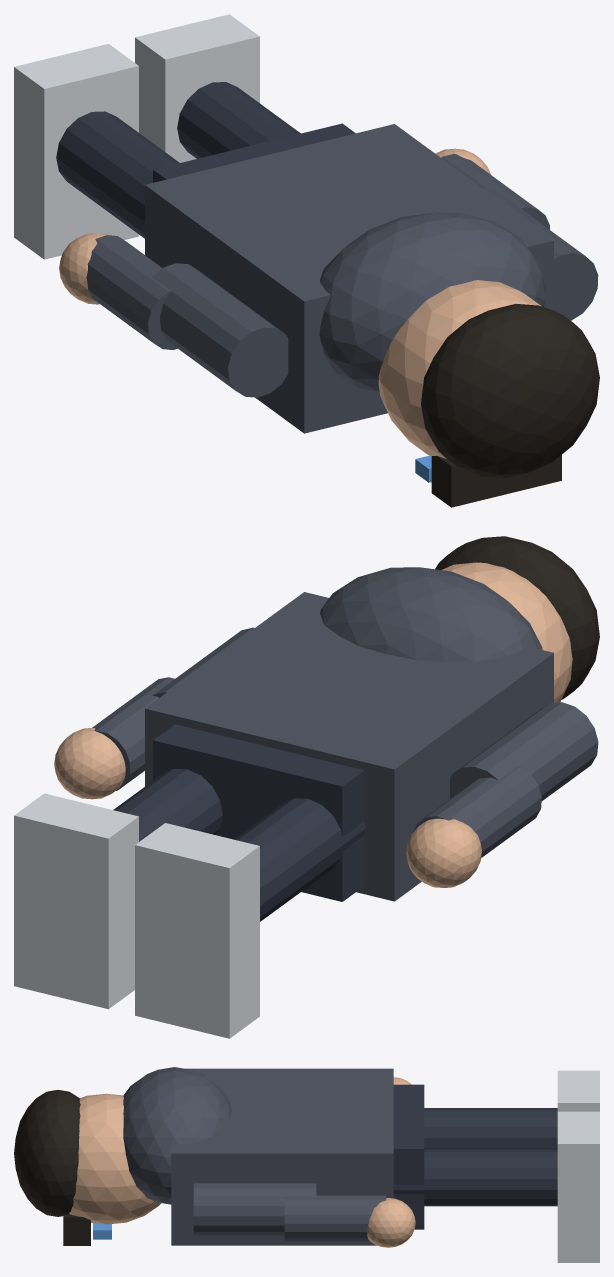
Rendered from character.glb.
3 views of the same model, one above another, from view 1: azimuth 30°, elevation 25°; view 2: azimuth 150°, elevation 25°; view 3: azimuth 270°, elevation 25° (orthographic). The views are drawn at different scales.
Parts seen in each view (by area): view 1: hoodie_body, hair, hood, left_sneaker, left_upper_arm, right_sneaker, head, left_shin, right_shin, left_forearm, fringe, right_upper_arm (+3 smaller); view 2: hoodie_body, left_sneaker, right_sneaker, hood, hips, left_shin, left_upper_arm, hair, left_forearm, right_shin, head, left_hand (+3 smaller); view 3: hoodie_body, hood, right_shin, head, hair, right_sneaker, left_shin, right_upper_arm, right_forearm, hips, right_hand, left_sneaker (+2 smaller).
Part boxes in pixels (left/top/right/bottom): hoodie_body: left=145, top=124, right=553, bottom=433; hair: left=421, top=304, right=599, bottom=478; hood: left=319, top=212, right=545, bottom=393; left_sneaker: left=14, top=44, right=138, bottom=259; left_upper_arm: left=152, top=263, right=288, bottom=397; right_sneaker: left=135, top=14, right=259, bottom=162; head: left=378, top=280, right=541, bottom=458; left_shin: left=56, top=111, right=179, bottom=238; right_shin: left=177, top=82, right=300, bottom=158; left_forearm: left=86, top=235, right=177, bottom=349; fringe: left=431, top=455, right=561, bottom=507; right_upper_arm: left=484, top=188, right=598, bottom=320; hoodie_body: left=145, top=592, right=553, bottom=901; left_sneaker: left=135, top=823, right=259, bottom=1038; right_sneaker: left=14, top=793, right=138, bottom=1009; hood: left=320, top=567, right=542, bottom=662; hips: left=153, top=724, right=364, bottom=901; left_shin: left=234, top=798, right=365, bottom=921; left_upper_arm: left=450, top=702, right=598, bottom=800; hair: left=435, top=536, right=599, bottom=699; left_forearm: left=412, top=766, right=541, bottom=857; right_shin: left=113, top=769, right=222, bottom=841; head: left=442, top=562, right=572, bottom=702; left_hand: left=406, top=818, right=481, bottom=887; hoodie_body: left=171, top=1068, right=393, bottom=1245; hood: left=123, top=1067, right=231, bottom=1204; right_shin: left=393, top=1149, right=557, bottom=1206; head: left=69, top=1093, right=161, bottom=1224; hair: left=14, top=1090, right=80, bottom=1216; right_sneaker: left=557, top=1111, right=599, bottom=1262; left_shin: left=424, top=1108, right=557, bottom=1149; right_upper_arm: left=193, top=1183, right=316, bottom=1235; right_forearm: left=284, top=1195, right=386, bottom=1241; hips: left=393, top=1084, right=424, bottom=1229; right_hand: left=367, top=1198, right=415, bottom=1247; left_sneaker: left=557, top=1070, right=599, bottom=1111.
Size of the model in its own units: 1.6 by 0.7774 by 2.77.
